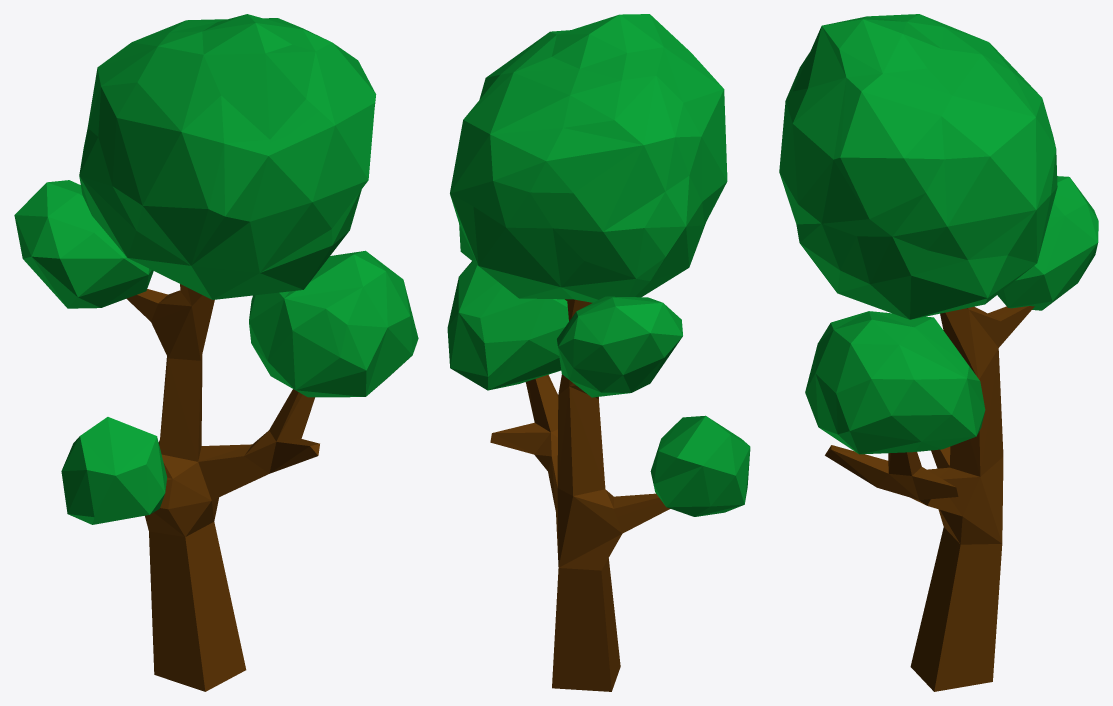
The model's file is treeonly2.fbx.
3 views of the same model, side by side, from view 1: azimuth 30°, elevation 25°; view 2: azimuth 150°, elevation 25°; view 3: azimuth 270°, elevation 25° (orthographic). The views are drawn at different scales.
Visible parts, largest first — view 1: NatureFreePack1:Tree1NaturePack; view 2: NatureFreePack1:Tree1NaturePack; view 3: NatureFreePack1:Tree1NaturePack.
Part boxes in pixels (x1=…): NatureFreePack1:Tree1NaturePack: x1=14, y1=14, x2=418, y2=691; NatureFreePack1:Tree1NaturePack: x1=447, y1=14, x2=750, y2=691; NatureFreePack1:Tree1NaturePack: x1=779, y1=14, x2=1098, y2=691.
Size of the model in its own units: 35.45 by 72.19 by 31.68.
